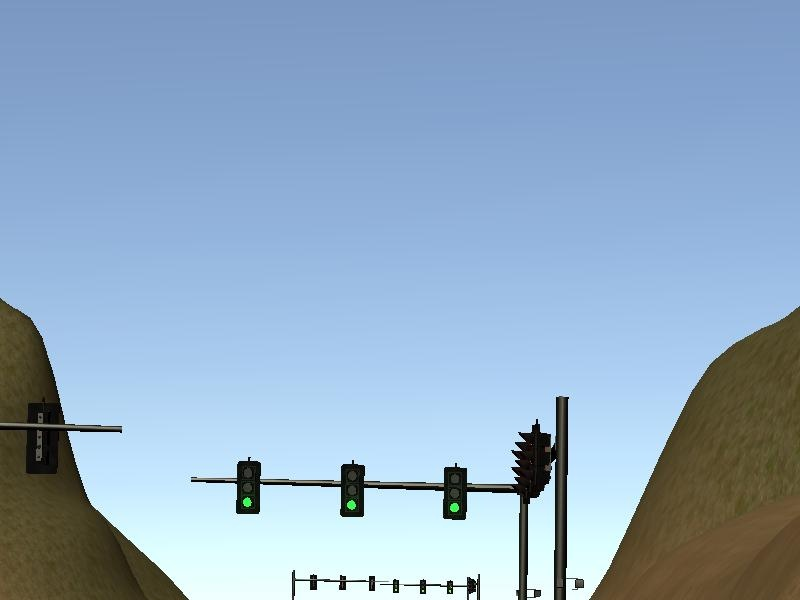GREEN: (338, 460, 367, 520), (234, 457, 262, 517), (440, 465, 470, 521)
